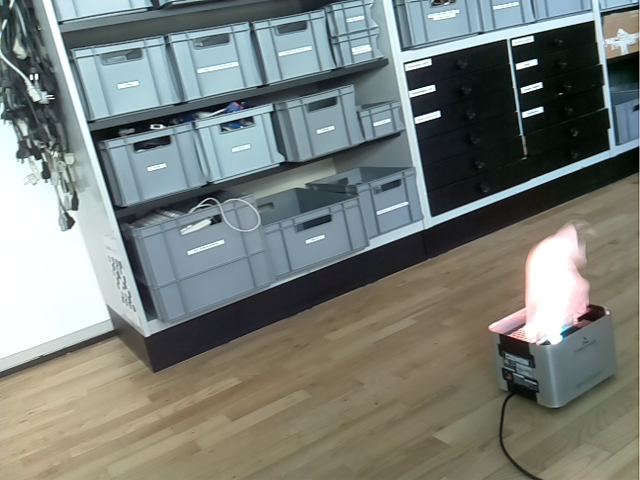fire: (524, 225, 588, 345)
